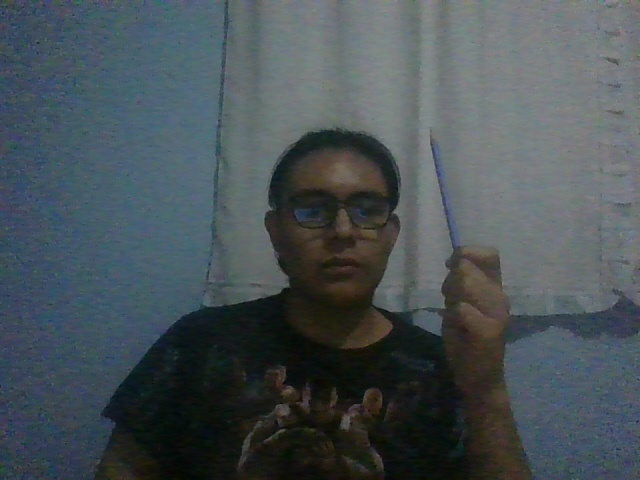lapiz: (429, 127, 459, 250)
